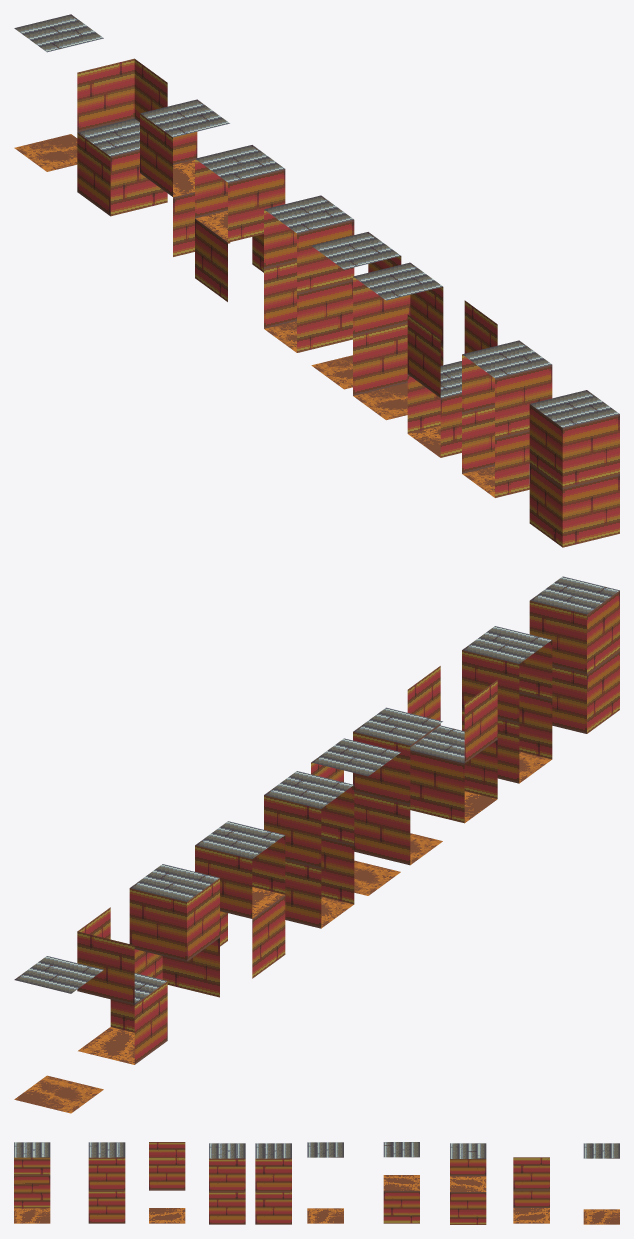
The model's file is Screenaze.glb.
The picture shows the model from 3 angles, top to bottom: view 1: azimuth 30°, elevation 25°; view 2: azimuth 150°, elevation 25°; view 3: azimuth 270°, elevation 25°; orthographic projection. The views are drawn at different scales.
Visible parts, largest first — view 1: EndWall.col, MainWall.col, StartWall.col, LowerWallTurn.col, Right.col, HIgherWall.col, LowerWall.col, HighLeft.col, 4Way.col, 3Way.col; view 2: MainWall.col, EndWall.col, HighLeft.col, LowerWall.col, StartWall.col, HIgherWall.col, Right.col, LowerWallTurn.col, 4Way.col, 3Way.col; view 3: StartWall.col, HighLeft.col, Right.col, 3Way.col, EndWall.col, LowerWallTurn.col, LowerWall.col, HIgherWall.col, MainWall.col, 4Way.col.
Boxes of the visible parts, x1=… form: EndWall.col: x1=529, y1=390, x2=619, y2=547; MainWall.col: x1=264, y1=195, x2=354, y2=352; StartWall.col: x1=462, y1=340, x2=552, y2=497; LowerWallTurn.col: x1=77, y1=58, x2=167, y2=216; Right.col: x1=353, y1=262, x2=443, y2=420; HIgherWall.col: x1=195, y1=145, x2=285, y2=301; LowerWall.col: x1=407, y1=300, x2=497, y2=457; HighLeft.col: x1=140, y1=99, x2=230, y2=256; 4Way.col: x1=14, y1=14, x2=103, y2=171; 3Way.col: x1=311, y1=232, x2=401, y2=389; MainWall.col: x1=264, y1=771, x2=354, y2=928; EndWall.col: x1=529, y1=576, x2=619, y2=733; HighLeft.col: x1=129, y1=864, x2=219, y2=997; LowerWall.col: x1=407, y1=666, x2=497, y2=823; StartWall.col: x1=462, y1=626, x2=552, y2=783; HIgherWall.col: x1=195, y1=821, x2=285, y2=978; Right.col: x1=353, y1=707, x2=442, y2=865; LowerWallTurn.col: x1=77, y1=907, x2=167, y2=1064; 4Way.col: x1=14, y1=956, x2=103, y2=1113; 3Way.col: x1=311, y1=738, x2=400, y2=895; StartWall.col: x1=88, y1=1142, x2=125, y2=1223; HighLeft.col: x1=450, y1=1143, x2=486, y2=1224; Right.col: x1=209, y1=1143, x2=245, y2=1224; 3Way.col: x1=255, y1=1143, x2=291, y2=1224; EndWall.col: x1=14, y1=1142, x2=50, y2=1223; LowerWallTurn.col: x1=513, y1=1157, x2=549, y2=1223; LowerWall.col: x1=149, y1=1142, x2=185, y2=1223; HIgherWall.col: x1=383, y1=1142, x2=419, y2=1223; MainWall.col: x1=307, y1=1142, x2=343, y2=1223; 4Way.col: x1=583, y1=1143, x2=619, y2=1224.
Bounding box in the file's own units: 1.09 × 2.04 × 16.62.
Materials: 2 (2 with a texture image).
